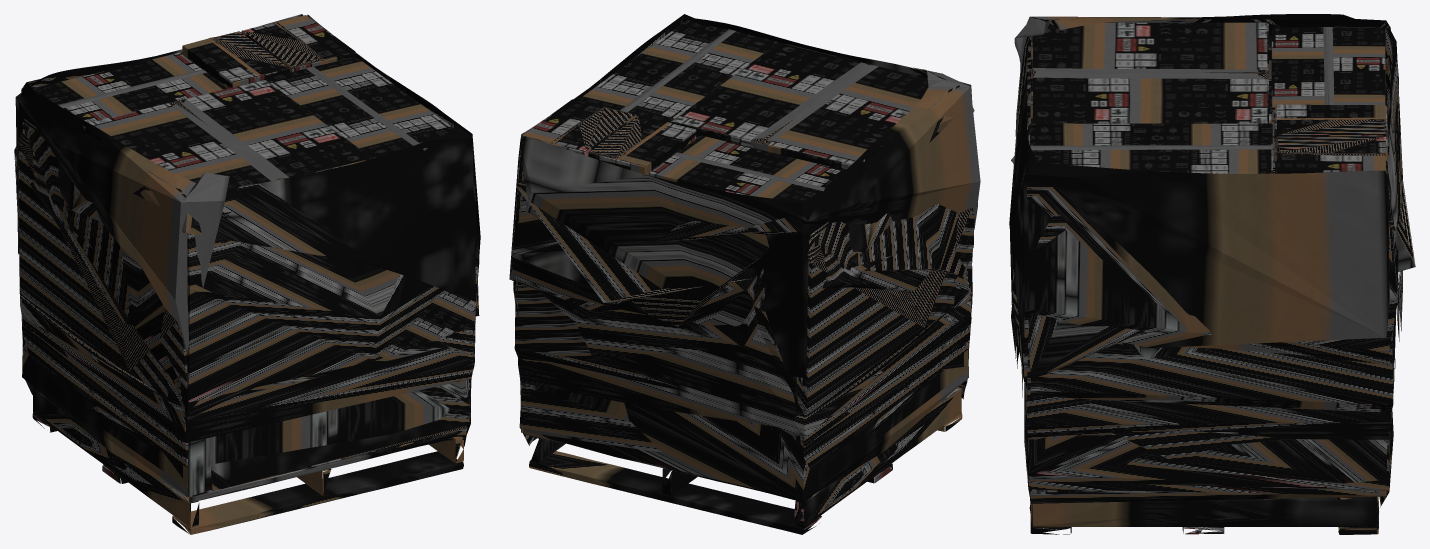
The model's file is pallet_assembly_transparent_a05.glb.
The picture shows the model from 3 angles, left to right: view 1: azimuth 30°, elevation 25°; view 2: azimuth 150°, elevation 25°; view 3: azimuth 270°, elevation 25°; orthographic projection. The views are drawn at different scales.
Parts seen in each view (by area): view 1: geometry_0; view 2: geometry_0; view 3: geometry_0.
Boxes of the visible parts, x1,y1,x2,y2 form: geometry_0: (14, 14, 480, 534); geometry_0: (509, 14, 980, 534); geometry_0: (1009, 14, 1415, 534).
Size of the model in its own units: 0.3891 by 0.42 by 0.4042.
Materials: 1 (1 with a texture image).
